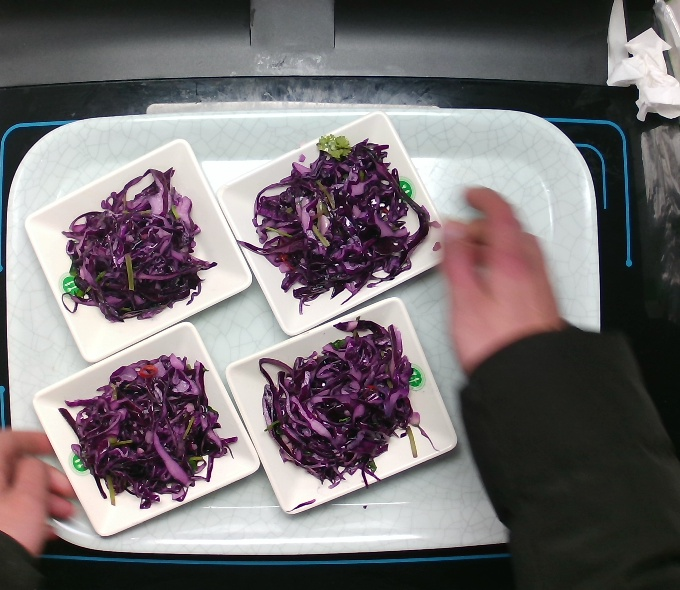wcq-ZiGanLan: (233, 129, 446, 318), (256, 311, 444, 494), (53, 348, 242, 511), (59, 166, 221, 329)
